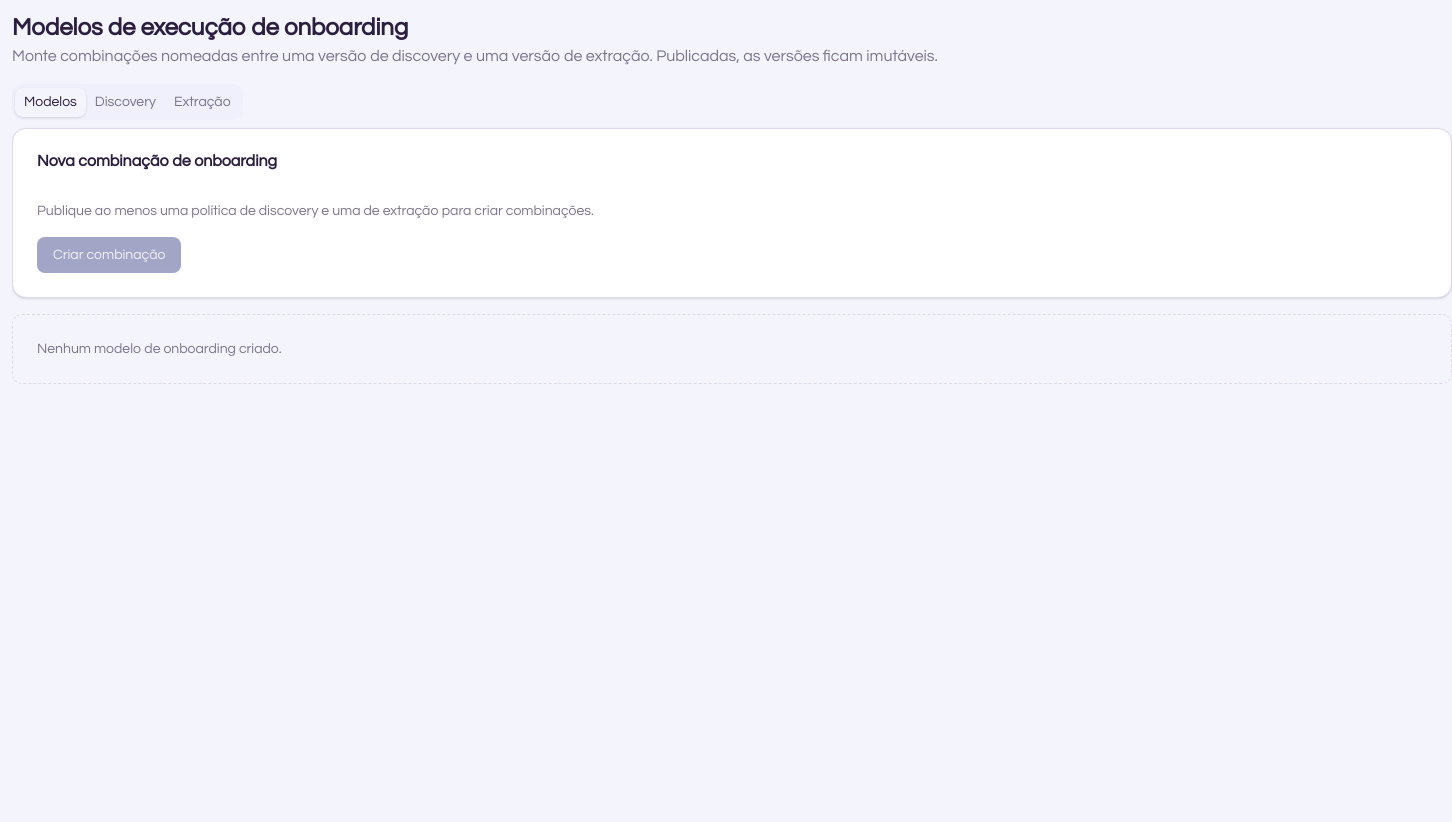
Test: OnboardingCatalogsClient › allows archiving a policy when its only references are historical
The image size is (1452, 822).
Press the mouse on the tab "Discovery": (125, 102) x1=86 y1=88 x2=165 y2=116
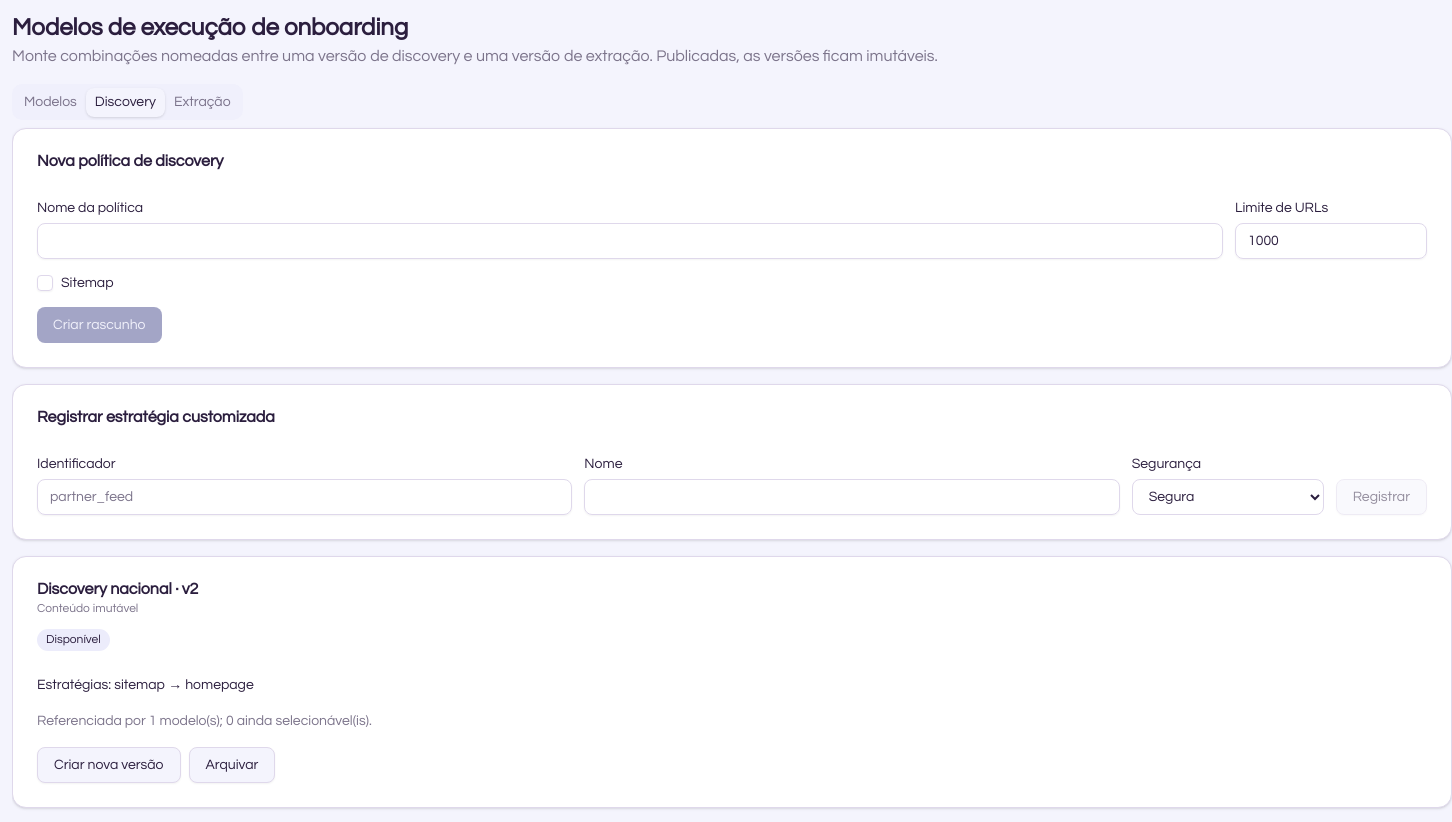
Check: the text "Referenciada por 1 modelo(s); 0 ainda selecionável(is)." is shown, box x1=37 y1=714 x2=372 y2=728
Check: the button "Arquivar" is enabled, box x1=188 y1=747 x2=275 y2=783
